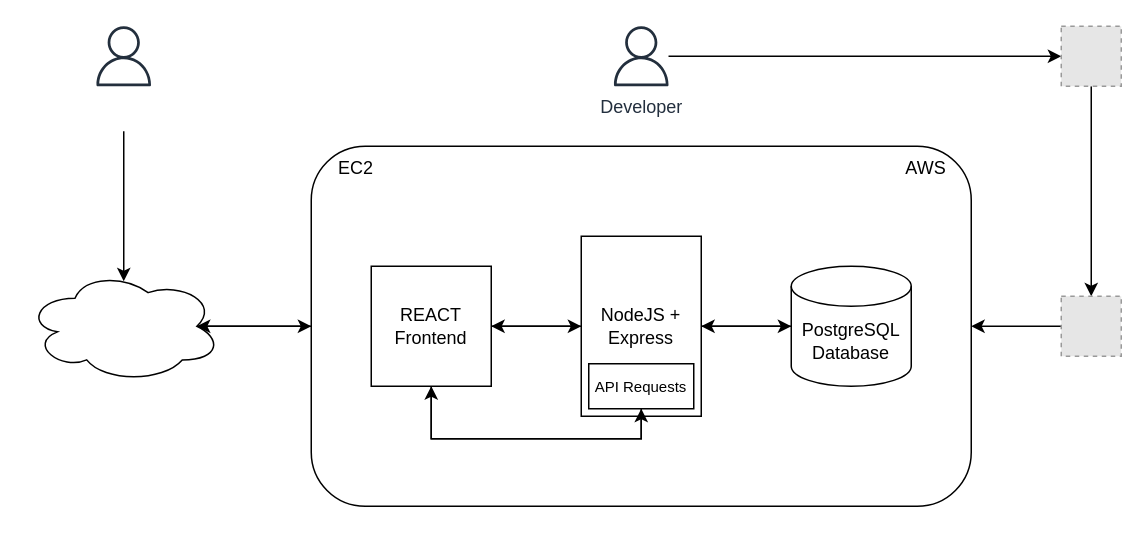
Image size: 1148x533. Some labels were removed from this diagram. Grey dashed boxes stand in for pictures. The box of each missing label's shape, as (x1, y1, x2, y2) in pixels:
Internet: (25, 269, 221, 382)
User: (93, 26, 153, 86)
